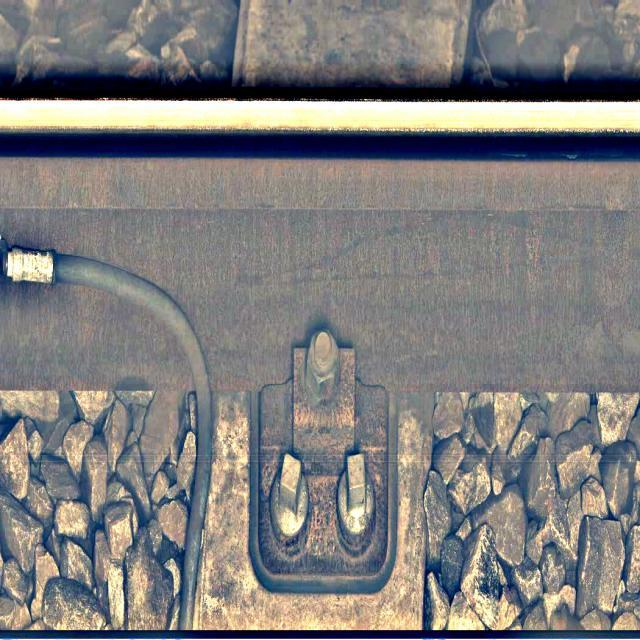Good Fasteners: (258, 332, 388, 582)
